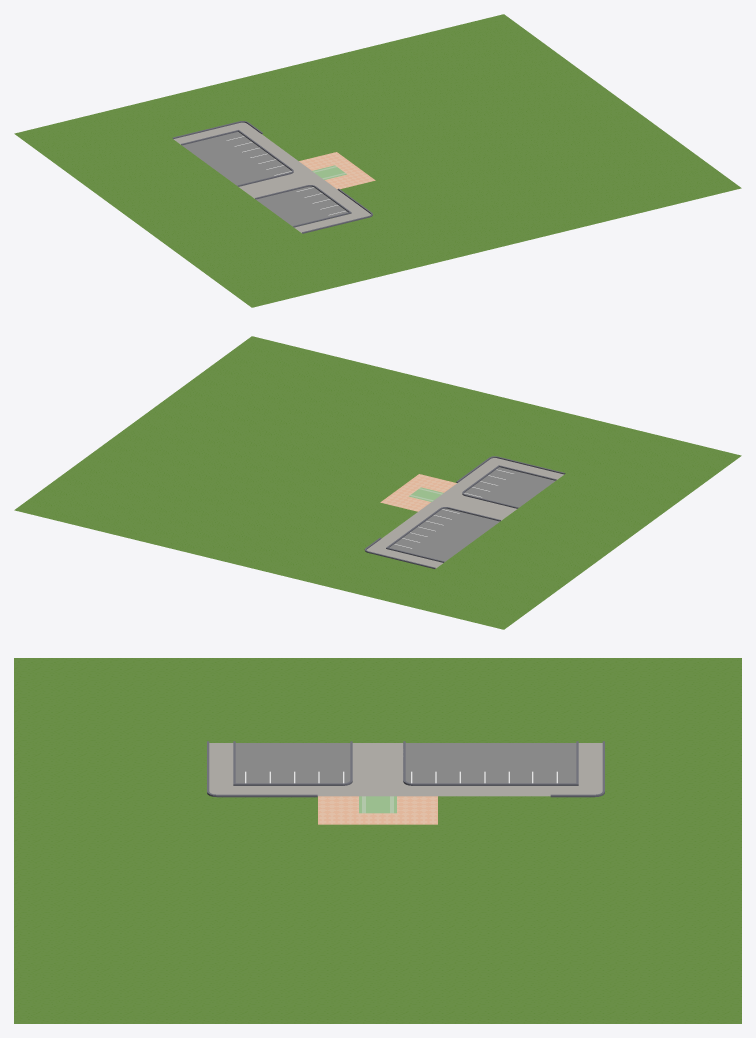
File: Map_bs_Floor_geo.fbx
The picture shows the model from 3 angles, top to bottom: view 1: azimuth 30°, elevation 25°; view 2: azimuth 150°, elevation 25°; view 3: azimuth 270°, elevation 25°; orthographic projection. The views are drawn at different scales.
Visible parts, largest first — view 1: Map_bs_FloorOutbound_Grass_geo, Map_bs_FloorParking_geo, Map_bs_FloorPavement_geo, Map_bs_Floor_Curbs_geo, Map_bs_Floor_geo; view 2: Map_bs_FloorOutbound_Grass_geo, Map_bs_FloorParking_geo, Map_bs_FloorPavement_geo, Map_bs_Floor_Curbs_geo, Map_bs_Floor_geo; view 3: Map_bs_FloorOutbound_Grass_geo, Map_bs_FloorParking_geo, Map_bs_FloorPavement_geo, Map_bs_Floor_geo, Map_bs_Floor_Curbs_geo, Map_bs_Floor_carpet_geo.
Part boxes in pixels (x1,y1,x2,y2): Map_bs_FloorOutbound_Grass_geo: (14, 14, 741, 307); Map_bs_FloorParking_geo: (182, 132, 348, 226); Map_bs_FloorPavement_geo: (173, 122, 370, 232); Map_bs_Floor_Curbs_geo: (172, 121, 372, 233); Map_bs_Floor_geo: (299, 152, 375, 189); Map_bs_FloorOutbound_Grass_geo: (14, 336, 741, 629); Map_bs_FloorParking_geo: (389, 467, 555, 561); Map_bs_FloorPavement_geo: (367, 458, 563, 568); Map_bs_Floor_Curbs_geo: (364, 456, 565, 568); Map_bs_Floor_geo: (380, 474, 456, 511); Map_bs_FloorOutbound_Grass_geo: (14, 658, 741, 1023); Map_bs_FloorParking_geo: (235, 743, 576, 783); Map_bs_FloorPavement_geo: (209, 743, 602, 796); Map_bs_Floor_geo: (318, 796, 437, 824); Map_bs_Floor_Curbs_geo: (207, 741, 604, 797); Map_bs_Floor_carpet_geo: (359, 796, 396, 813).
Size of the model in its own units: 94.61 by 79.58 by 0.2062.
